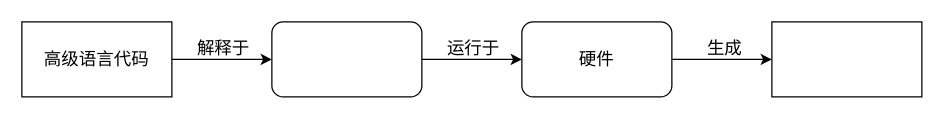
Some shapes in this 944 by 119 pixel diagram are drawn without their labels. The shapes that lost their labels are listed below. From the top down, each one's centre as x and y in pixels, then its label:
At [346,59]: "解释器".
At [846,59]: "程序结果".
